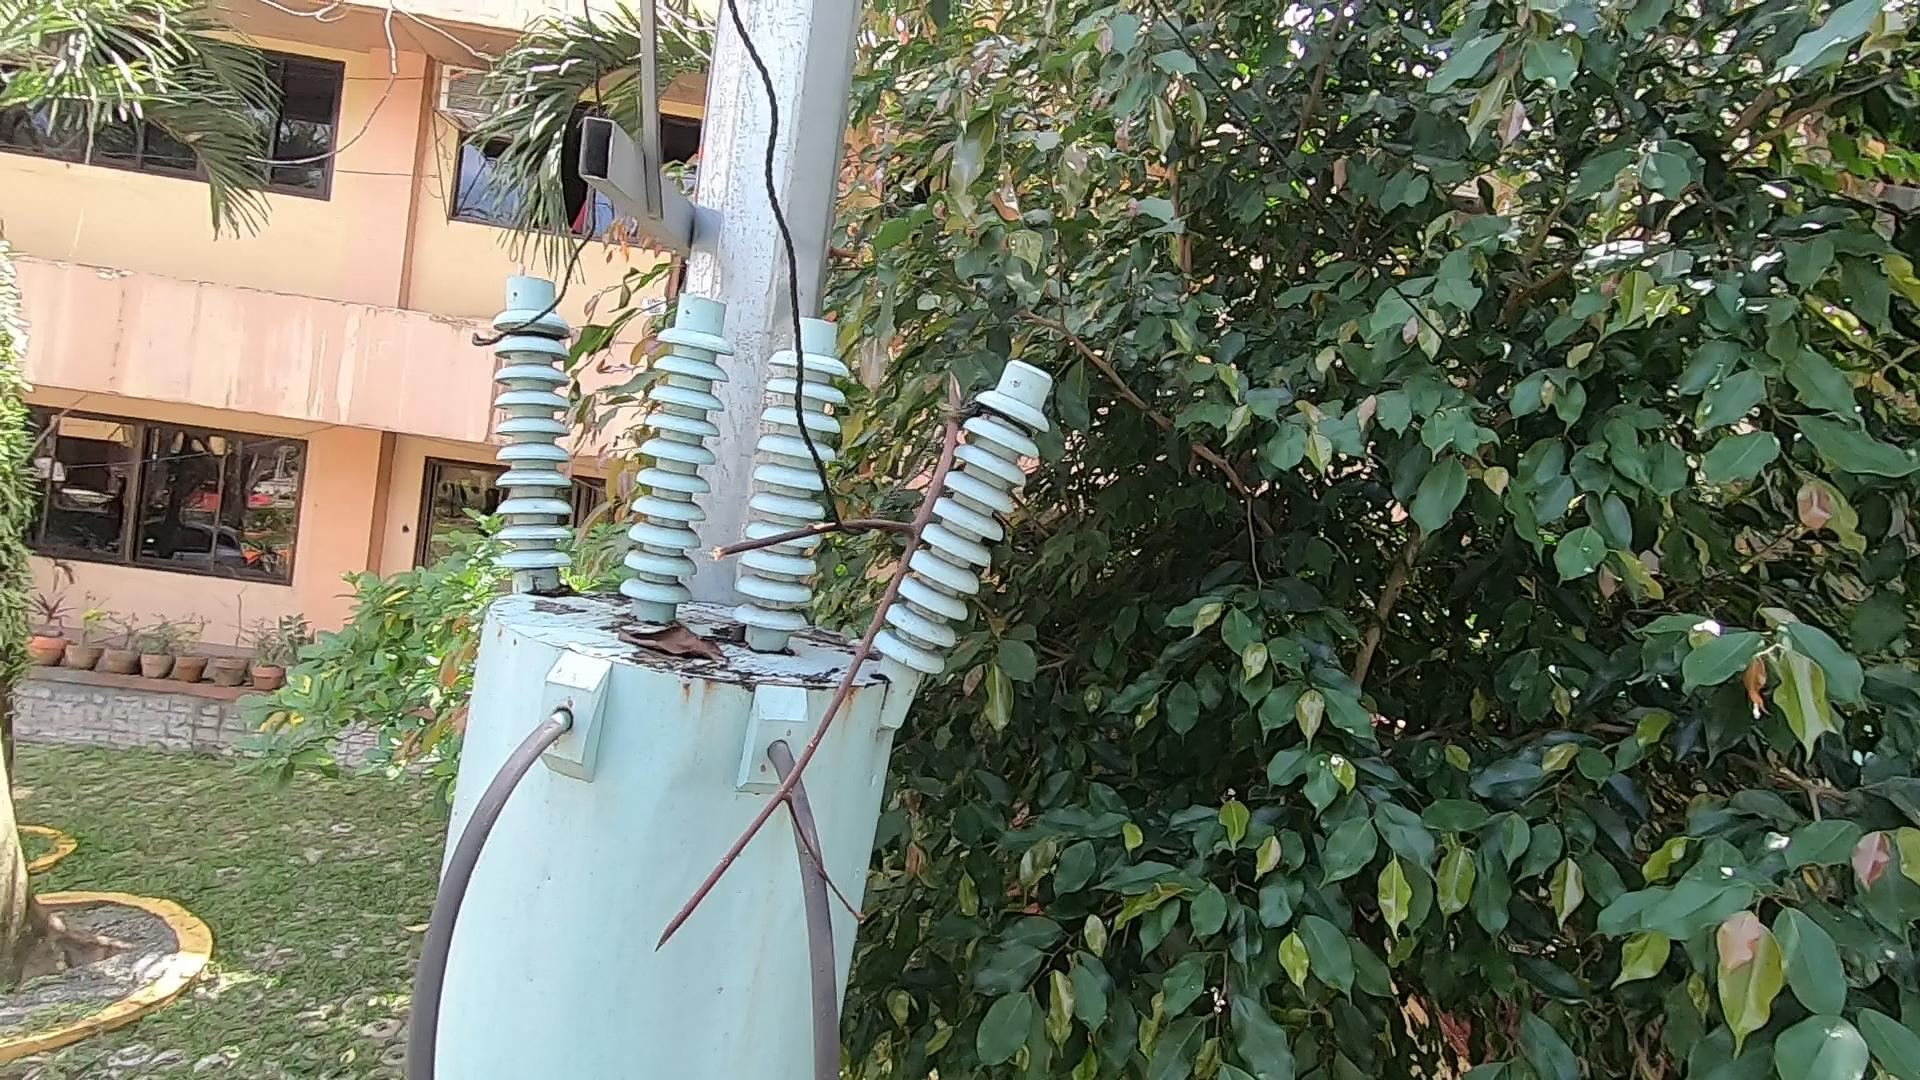leaf: (626, 621, 731, 687)
tree branch: (632, 344, 1054, 984)
